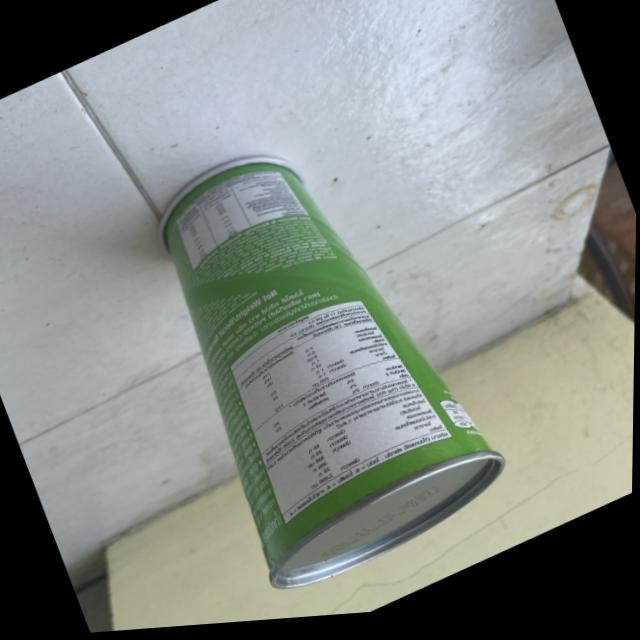a pringles: (117, 90, 536, 625)
